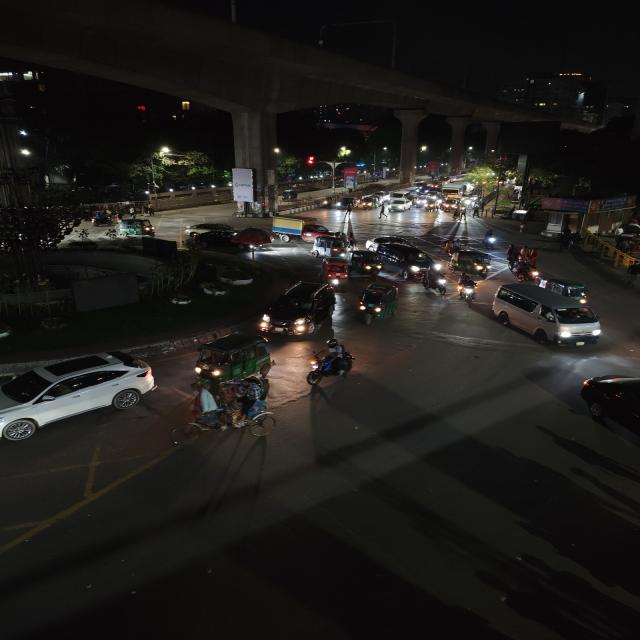car: (0, 346, 159, 443), (489, 282, 608, 350), (576, 369, 640, 488), (256, 279, 339, 339), (364, 234, 440, 280), (179, 228, 263, 258), (387, 199, 412, 212)
cng: (189, 335, 272, 382), (354, 281, 402, 326), (452, 247, 494, 277), (542, 276, 591, 300), (310, 232, 353, 259), (319, 257, 352, 287), (350, 248, 383, 276), (116, 216, 158, 238), (422, 198, 438, 213)
motorcycle: (305, 340, 359, 388), (509, 253, 541, 282), (419, 266, 449, 296), (455, 273, 481, 303), (482, 228, 499, 250), (318, 193, 336, 209)
pedestrian: (378, 204, 389, 220)
rickshaw: (182, 376, 279, 440), (442, 200, 465, 222), (334, 194, 359, 213), (360, 194, 377, 211)
truck: (269, 215, 335, 243)
